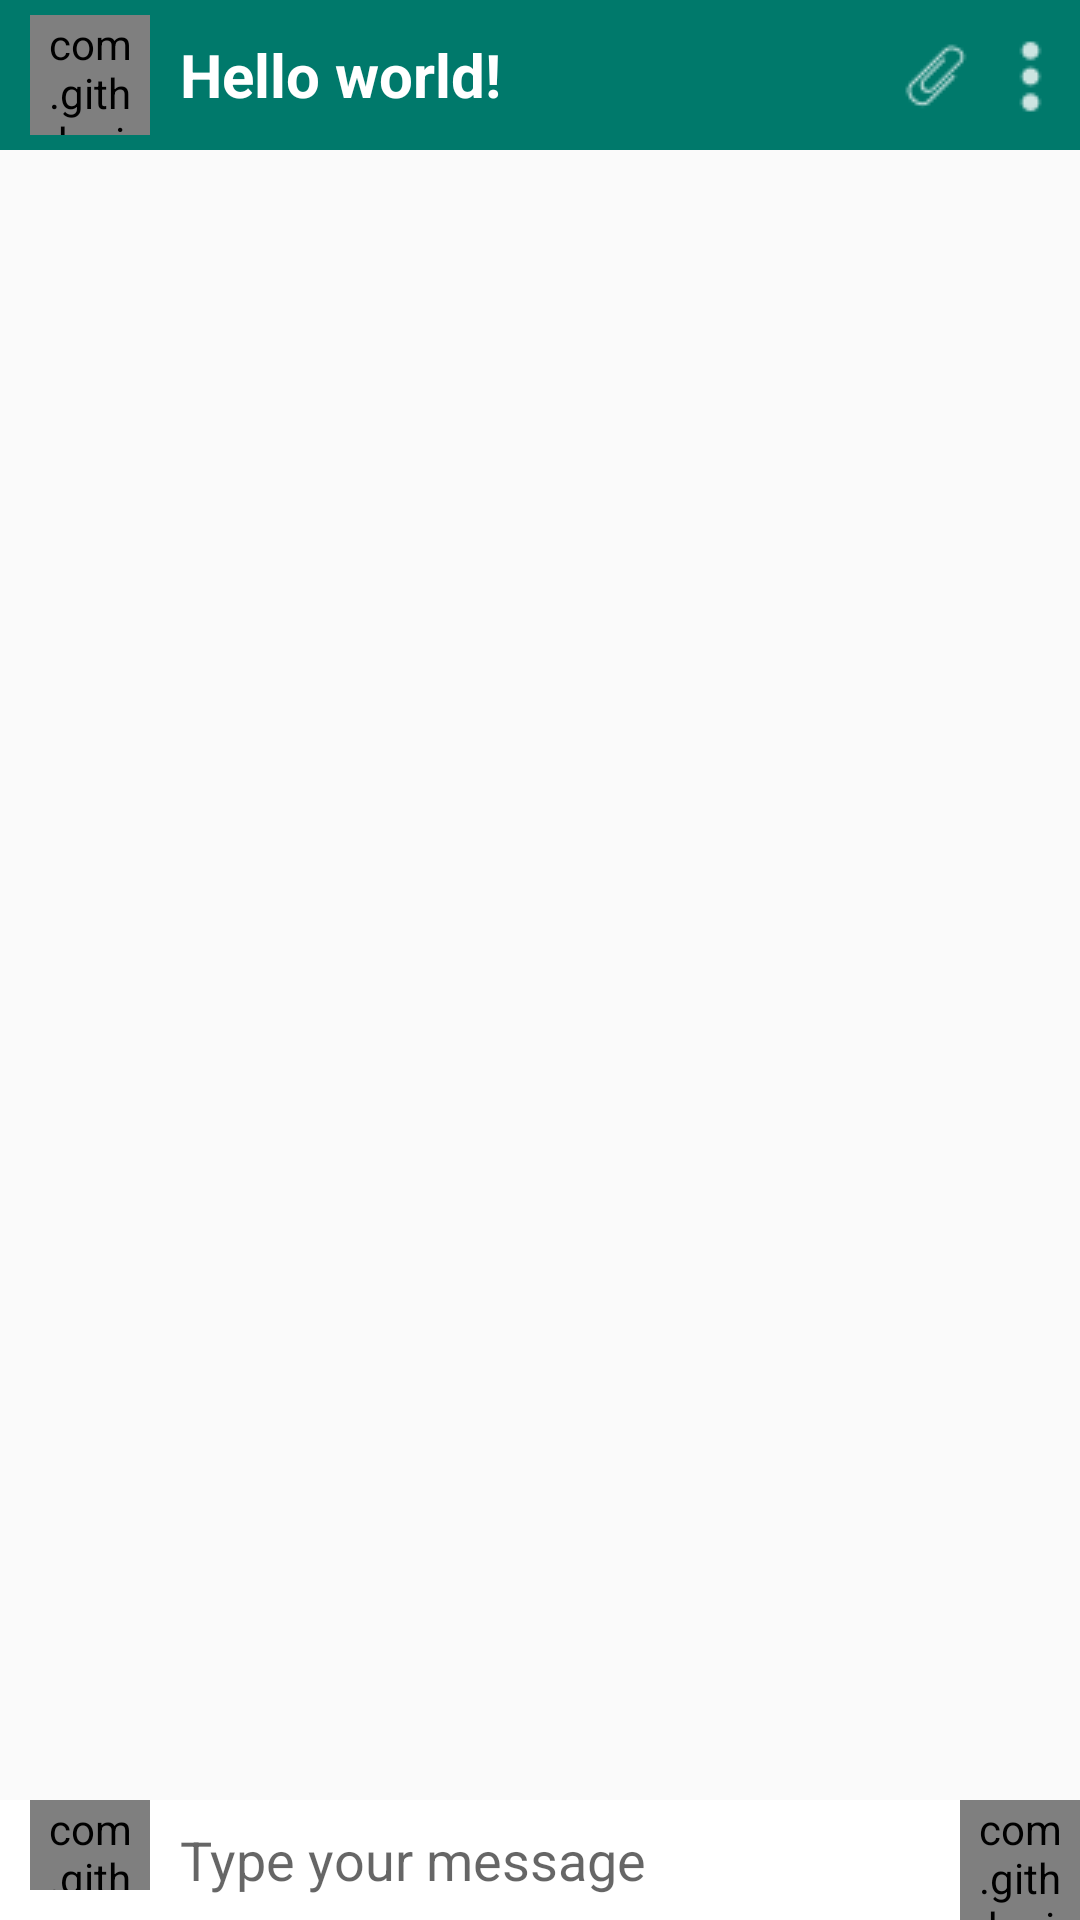

Screen size 1080×1920. Icon name, then its box in pixels as bbox(x1, y1, x2, y2):
attach: bbox(905, 44, 966, 106)
